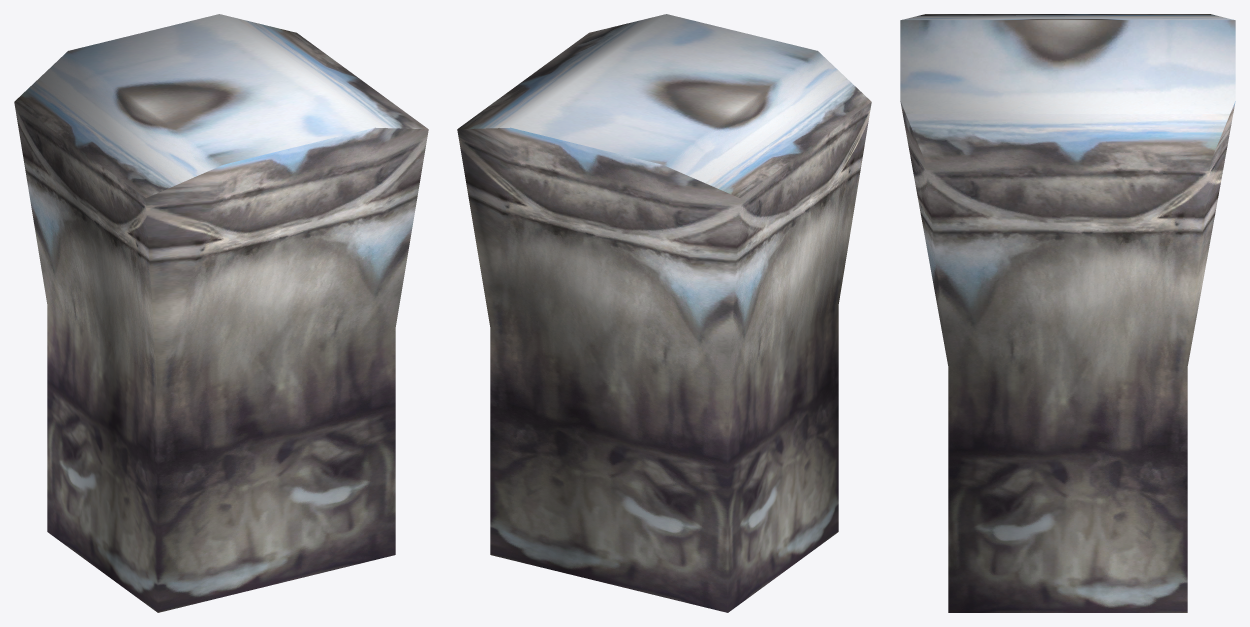
The model's file is dunmoroghstonefence04.obj.
3 views of the same model, side by side, from view 1: azimuth 30°, elevation 25°; view 2: azimuth 150°, elevation 25°; view 3: azimuth 270°, elevation 25° (orthographic). The views are drawn at different scales.
Parts seen in each view (by area): view 1: dunmoroghstonefence04; view 2: dunmoroghstonefence04; view 3: dunmoroghstonefence04.
Part boxes in pixels (left/top/right/bottom): dunmoroghstonefence04: left=14, top=14, right=428, bottom=612; dunmoroghstonefence04: left=457, top=14, right=871, bottom=612; dunmoroghstonefence04: left=900, top=14, right=1235, bottom=612.
Size of the model in its own units: 0.8328 by 1.28 by 0.793.
1 material, 1 textured.
